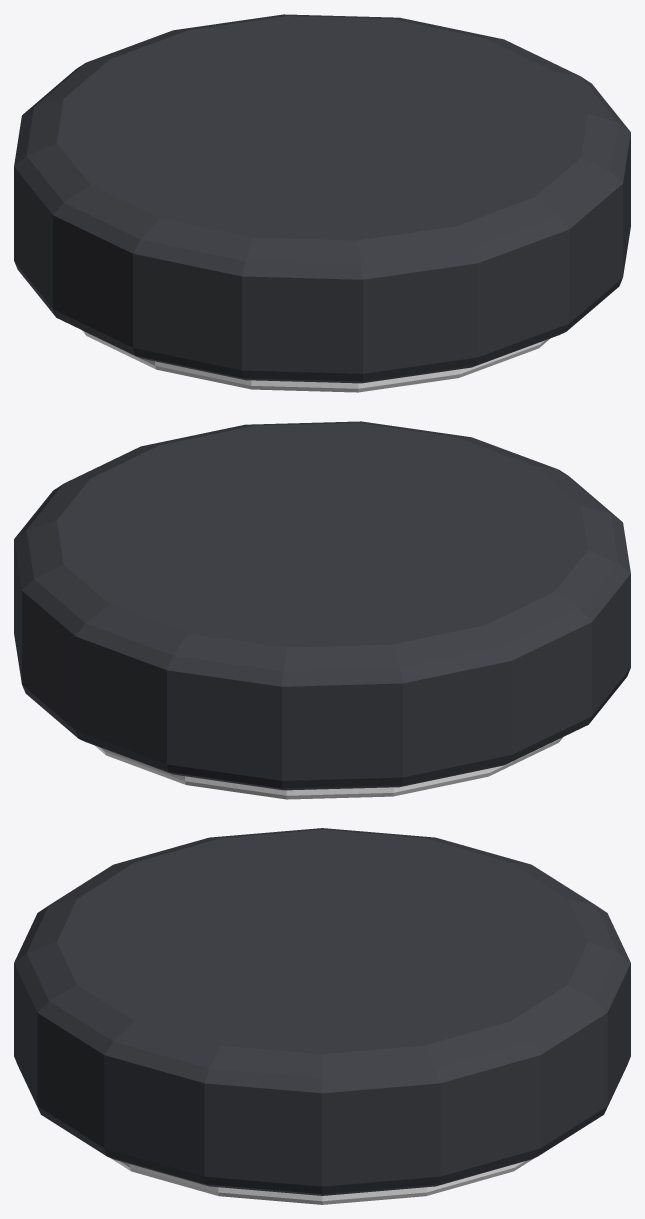
File: circle light textured.fbx
3 views of the same model, one above another, from view 1: azimuth 30°, elevation 25°; view 2: azimuth 150°, elevation 25°; view 3: azimuth 270°, elevation 25° (orthographic).
Visible parts, largest first — view 1: Cylinder; view 2: Cylinder; view 3: Cylinder.
Boxes of the visible parts, x1,y1,x2,y2 form: Cylinder: (14,14,630,392); Cylinder: (14,421,630,799); Cylinder: (14,828,630,1204).
Size of the model in its own units: 279 by 75.03 by 279.
